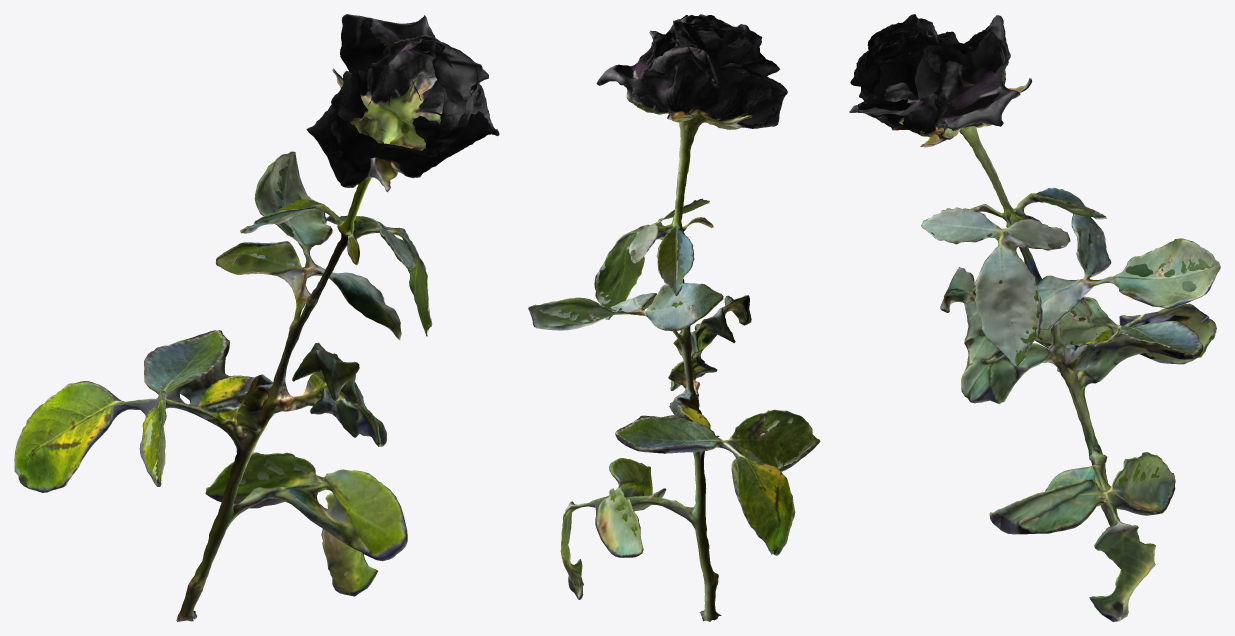
Rendered from black_rose.glb.
3 renders of one model, left to right at view 1: azimuth 30°, elevation 25°; view 2: azimuth 150°, elevation 25°; view 3: azimuth 270°, elevation 25°, orthographic. The views are drawn at different scales.
Parts seen in each view (by area): view 1: textured_0; view 2: textured_0; view 3: textured_0.
Part boxes in pixels (<box>): textured_0: <box>14,14,499,621</box>; textured_0: <box>528,14,820,621</box>; textured_0: <box>849,14,1220,621</box>.
Bounding box in the file's own units: 0.248 × 0.4586 × 0.2677.
Materials: 1 (1 with a texture image).
